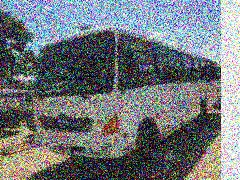bus: (30, 25, 219, 171)
